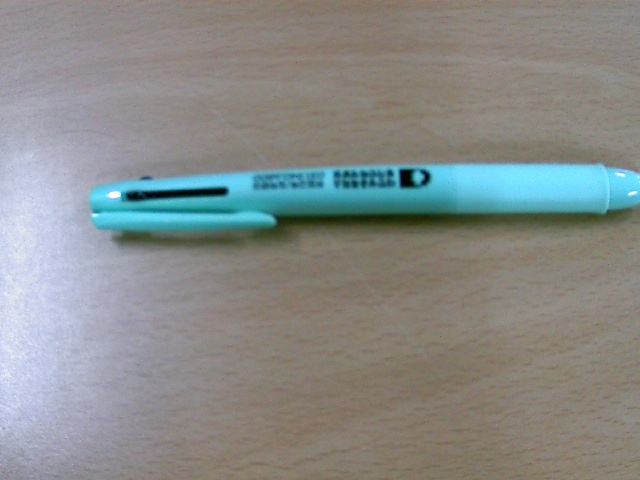pen: (85, 164, 634, 234)
